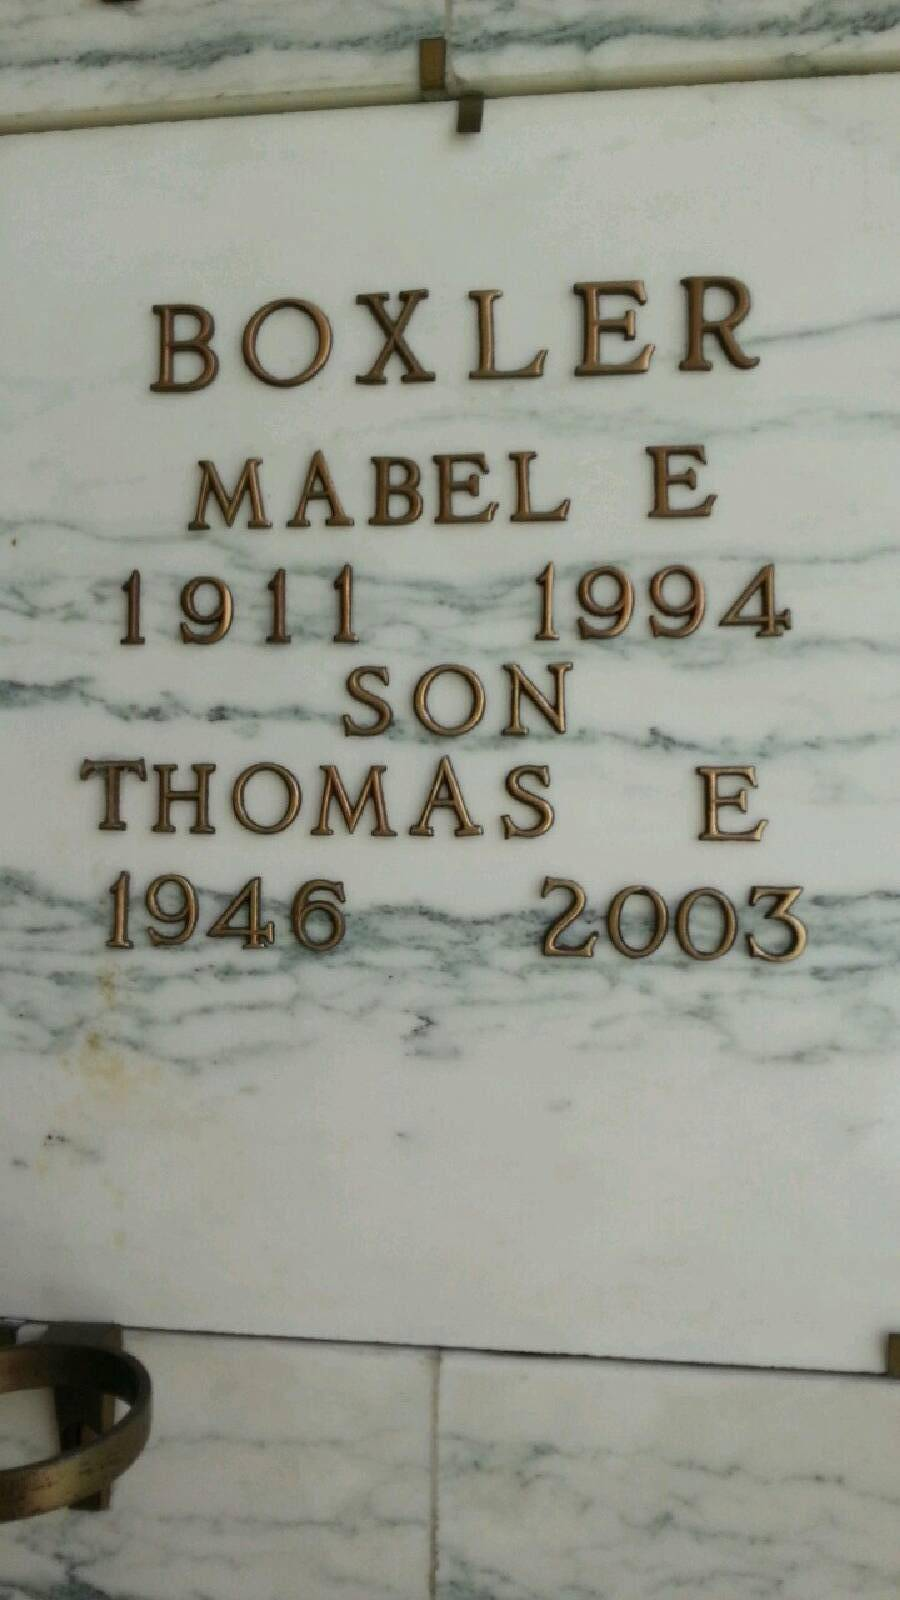plaque: (0, 59, 900, 1369)
